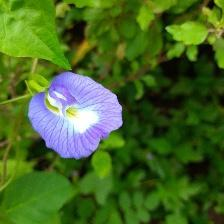shankupushpam: (28, 71, 127, 162)
